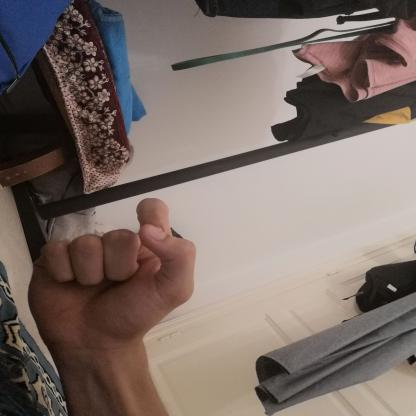FAA: (13, 185, 217, 368)
